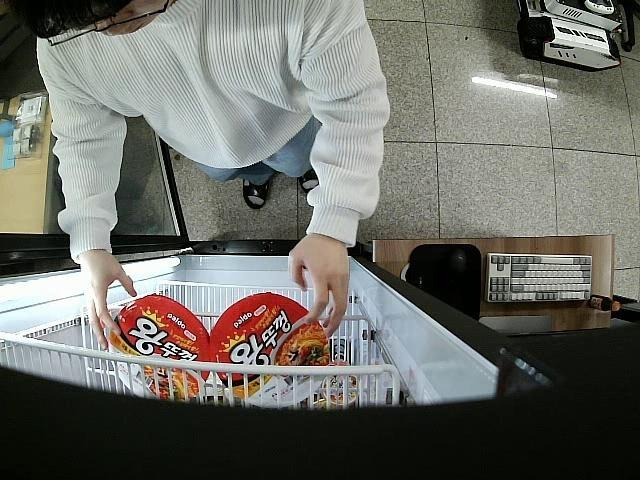10_wangTtukkeong: (208, 292, 328, 408), (109, 296, 212, 405)
